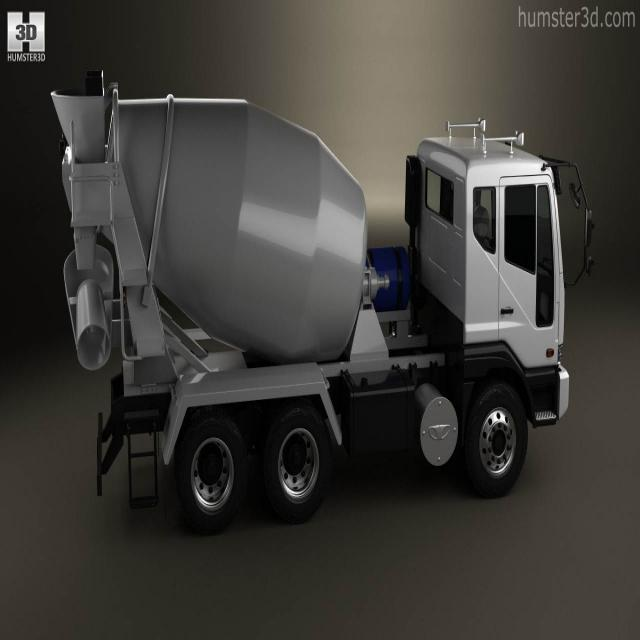Mixer Truck: (51, 70, 569, 531)
